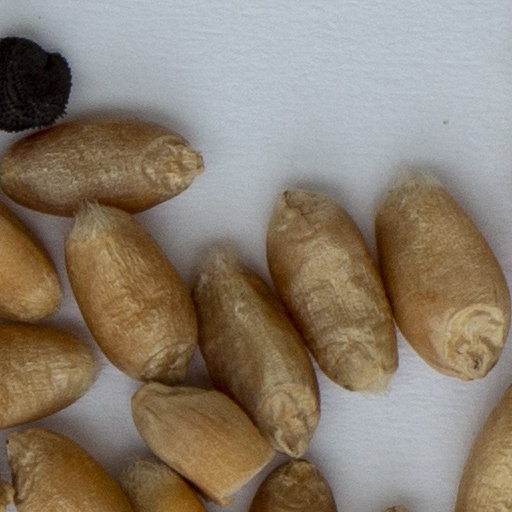Agrostemma-poly: (0, 35, 73, 132)
